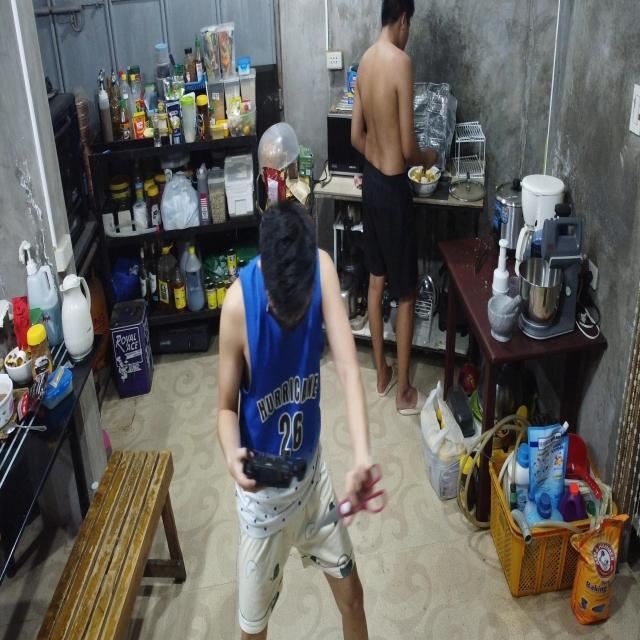scissor: (314, 462, 389, 530)
